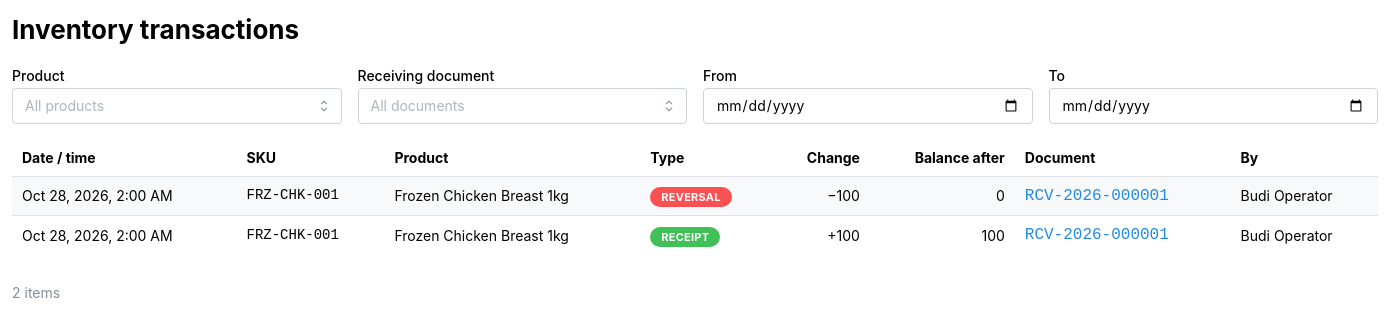
Test case: TransactionsPage › FR-41 D-31 a To date before From is flagged and not sent
This screenshot has width=1390, height=335.
Type "2026-10-28" into the date field labelled "From" at (868, 106), box [703,88,1032,124]
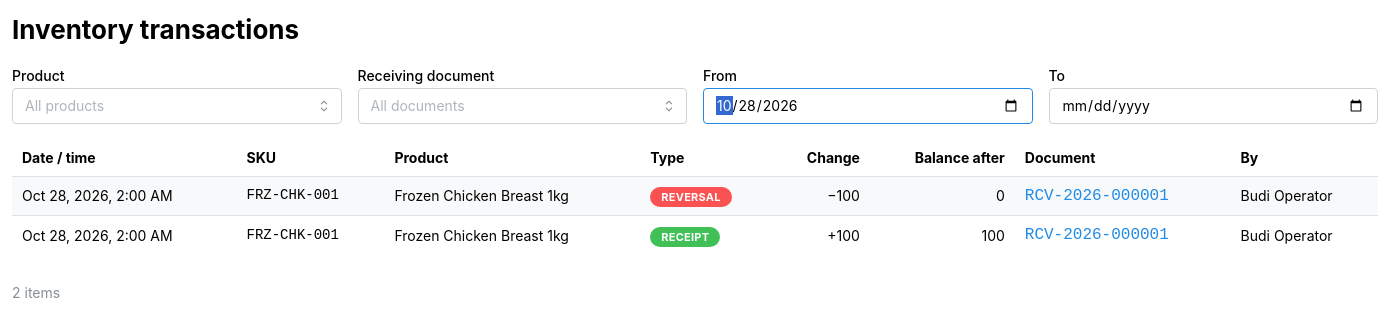
Type "2026-10-20" into the date field labelled "To" at (1213, 106), box [1048,88,1378,124]
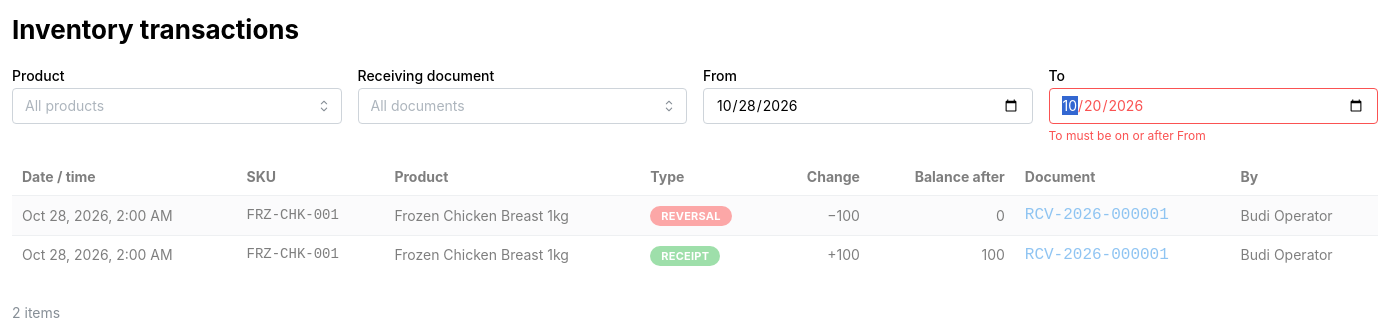
Check: the text "To must be on or after From" is shown, box [1048,128,1206,143]
